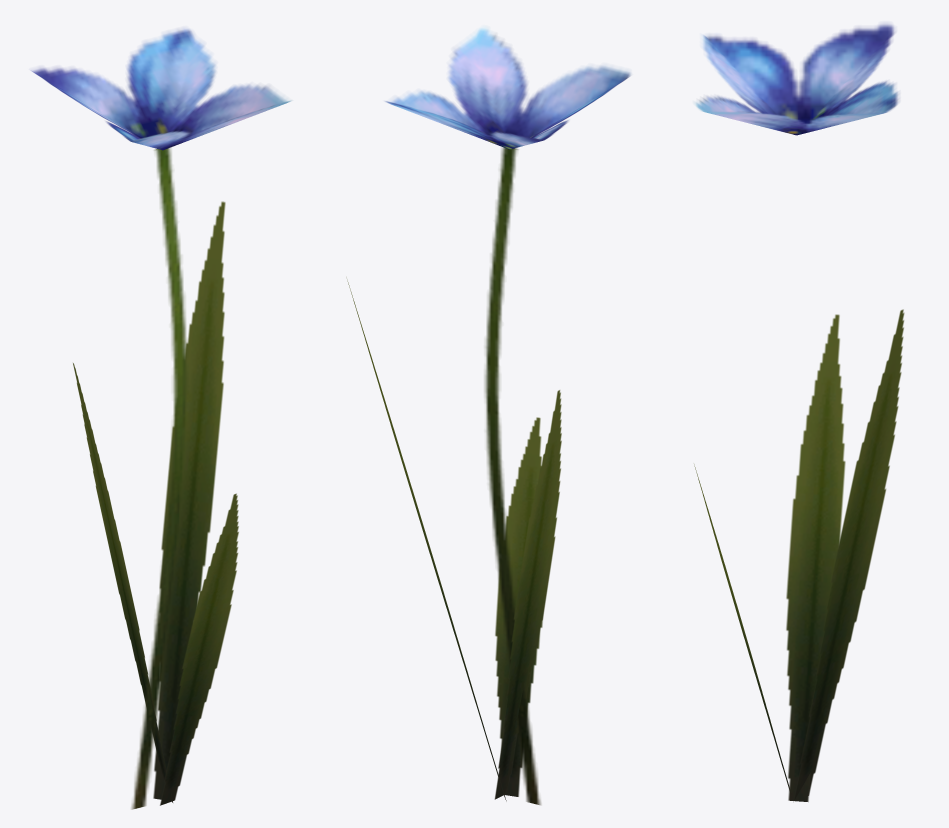
Rendered from flower1_61.glb.
The picture shows the model from 3 angles, left to right: view 1: azimuth 30°, elevation 25°; view 2: azimuth 150°, elevation 25°; view 3: azimuth 270°, elevation 25°; orthographic projection. The views are drawn at different scales.
Visible parts, largest first — view 1: flower1_61; view 2: flower1_61; view 3: flower1_61.
Part boxes in pixels (bbox=[...]): flower1_61: bbox=[31, 28, 291, 809]; flower1_61: bbox=[346, 27, 630, 804]; flower1_61: bbox=[694, 23, 904, 801].
Bounding box in the file's own units: 0.3003 × 0.9218 × 0.2821.
1 material, 1 textured.
